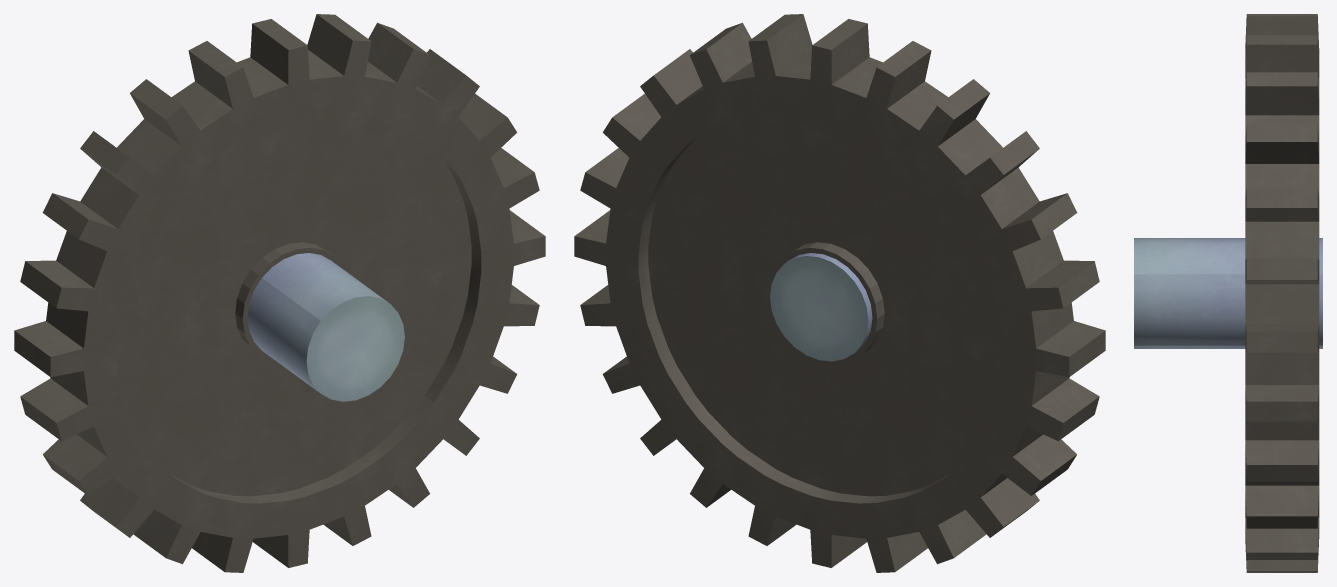
The model's file is module-timer-03.glb.
3 views of the same model, side by side, from view 1: azimuth 30°, elevation 25°; view 2: azimuth 150°, elevation 25°; view 3: azimuth 270°, elevation 25° (orthographic). The views are drawn at different scales.
Visible parts, largest first — view 1: Mesh_0.004; view 2: Mesh_0.004; view 3: Mesh_0.004.
Part boxes in pixels (x1,y1,x2,y2): Mesh_0.004: (14, 14, 545, 572); Mesh_0.004: (574, 14, 1105, 572); Mesh_0.004: (1134, 14, 1322, 572).
Size of the model in its own units: 0.7547 by 0.7547 by 0.255.
Materials: 1 (1 with a texture image).
